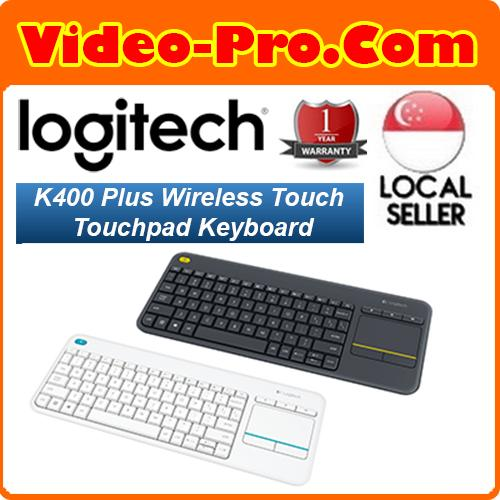logitech-keyboard-k400: (138, 252, 434, 357)
